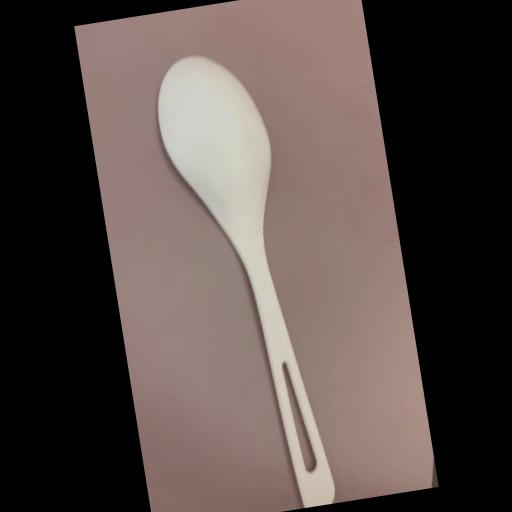utensil: (144, 40, 339, 512)
